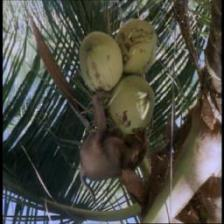monkey: (129, 145, 139, 169)
